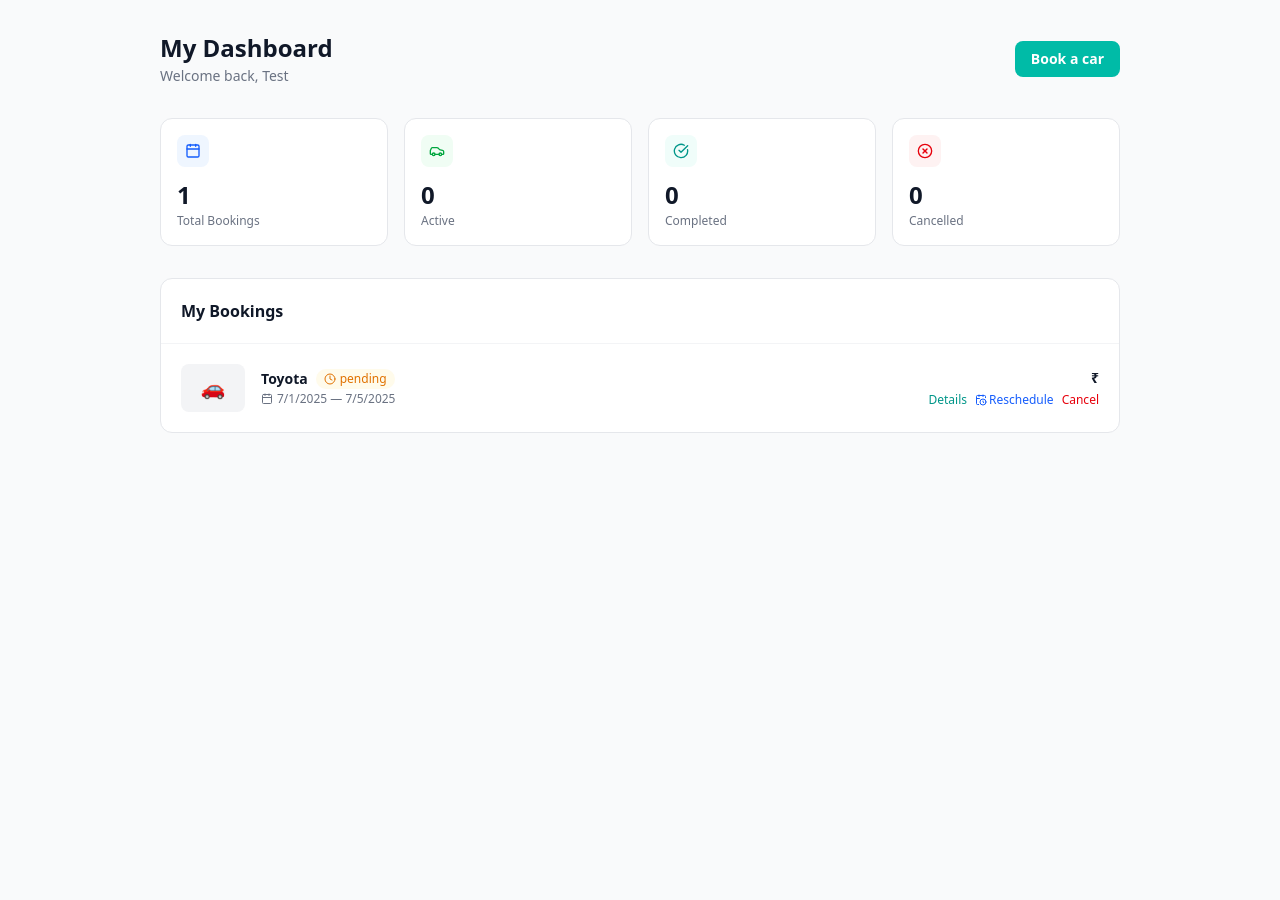
Dashboard cancel booking › cancel button shows ConfirmModal instead of window.confirm
Check: the text "Toyota" is shown, box [261,369,308,389]
Step 1. Click the button "Cancel" → (1080, 400), box [1062,392,1099,408]
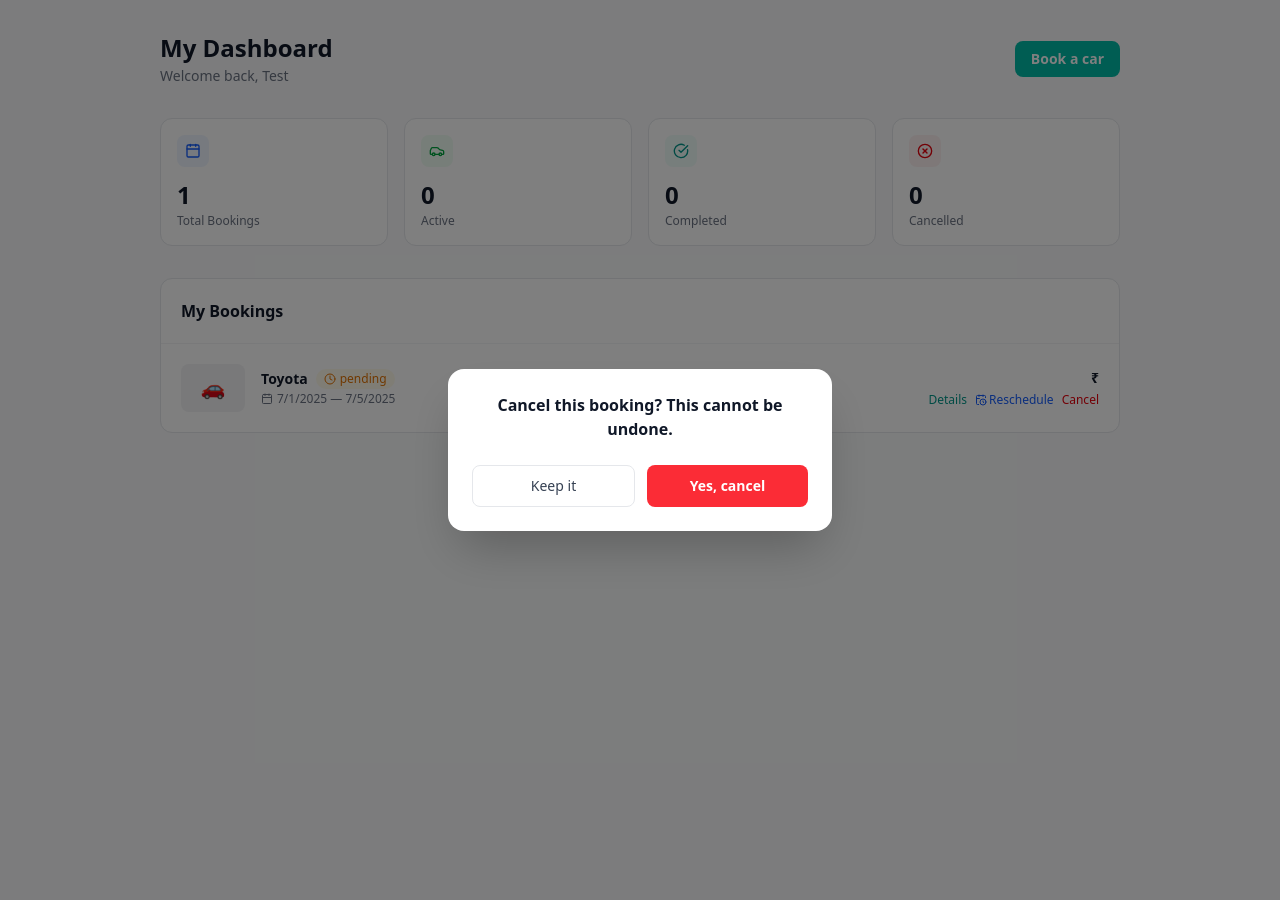
Check: the text "Cancel this booking? This cannot be undone." is shown, box [498,394,782,440]
Check: the button "Yes, cancel" is shown, box [647,465,808,507]
Check: the button "Keep it" is shown, box [472,465,635,507]
